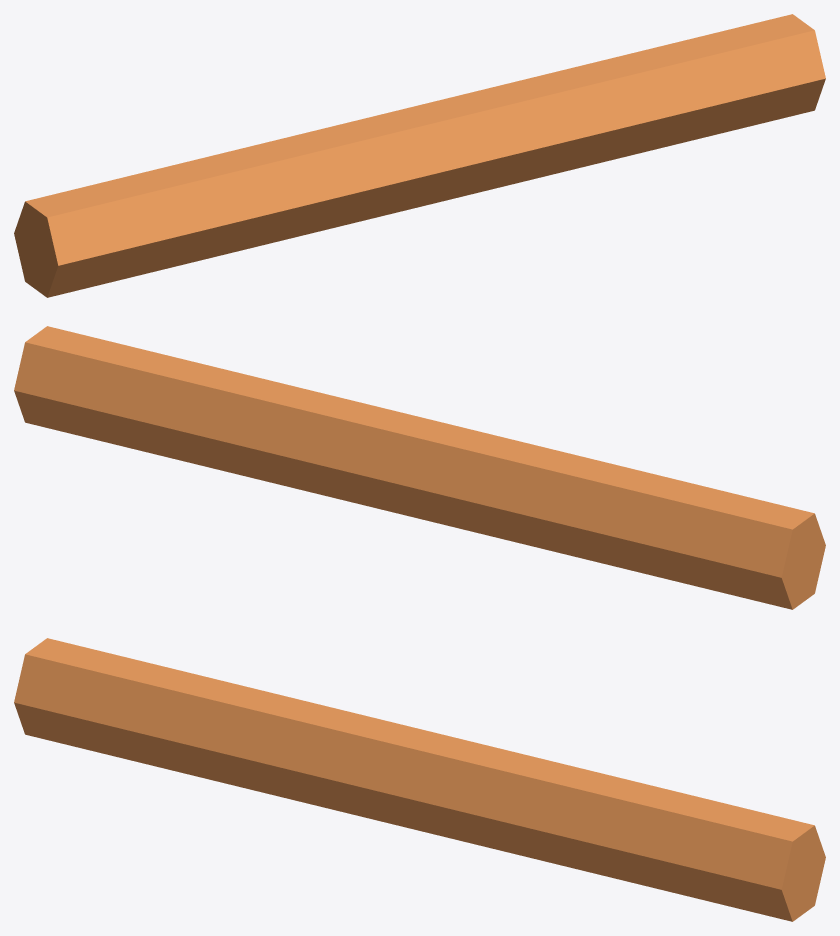
Rendered from rope.fbx.
3 renders of one model, top to bottom at view 1: azimuth 30°, elevation 25°; view 2: azimuth 150°, elevation 25°; view 3: azimuth 330°, elevation 25°, orthographic.
Parts seen in each view (by area): view 1: Circle; view 2: Circle; view 3: Circle.
Part boxes in pixels (box(x1,y1,x2,y2)): Circle: box(14, 14, 825, 297); Circle: box(14, 326, 825, 609); Circle: box(14, 638, 825, 921).
Bounding box in the file's own units: 100 × 10 × 10.
